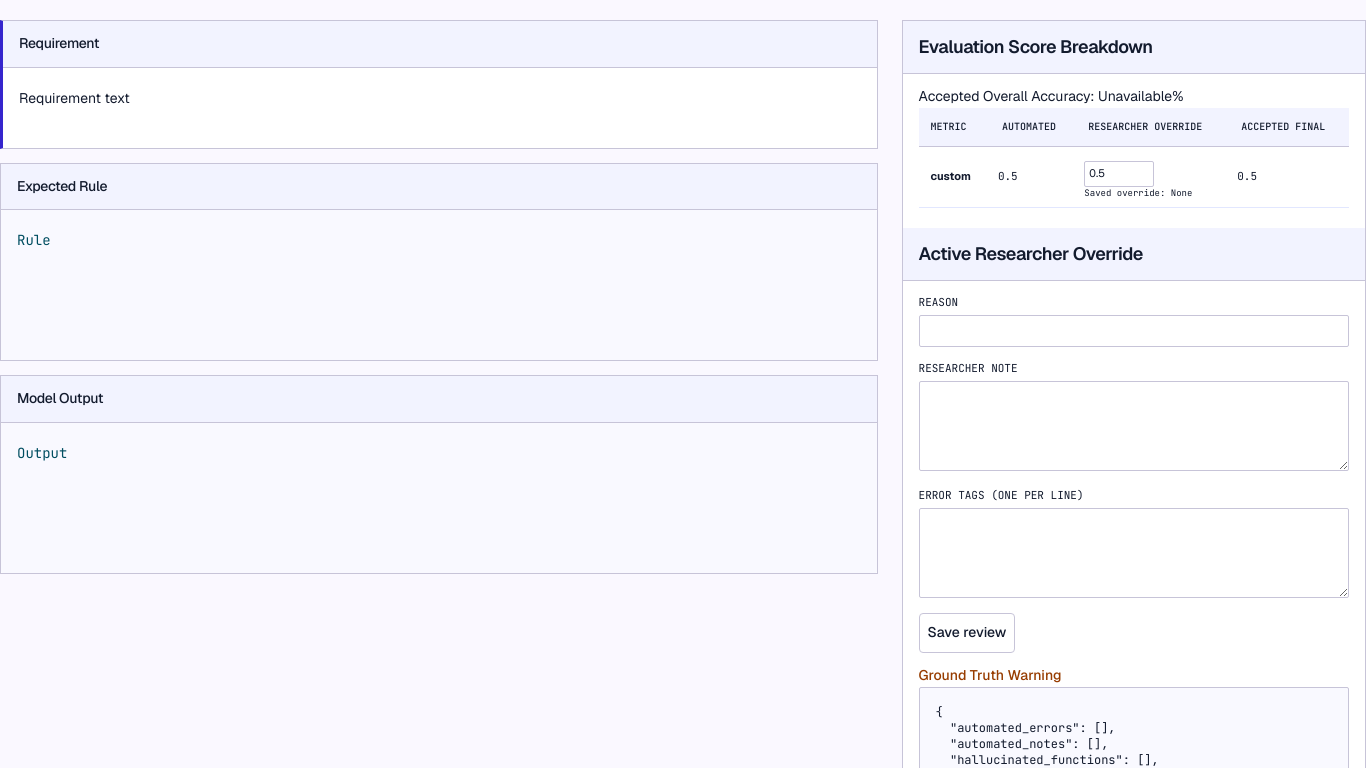
Test: review renders, requires reason, saves and shows audit
The image size is (1366, 768).
Replace the text in the number field named "Override custom" with "1" at (1119, 174), box [1084,161,1154,187]
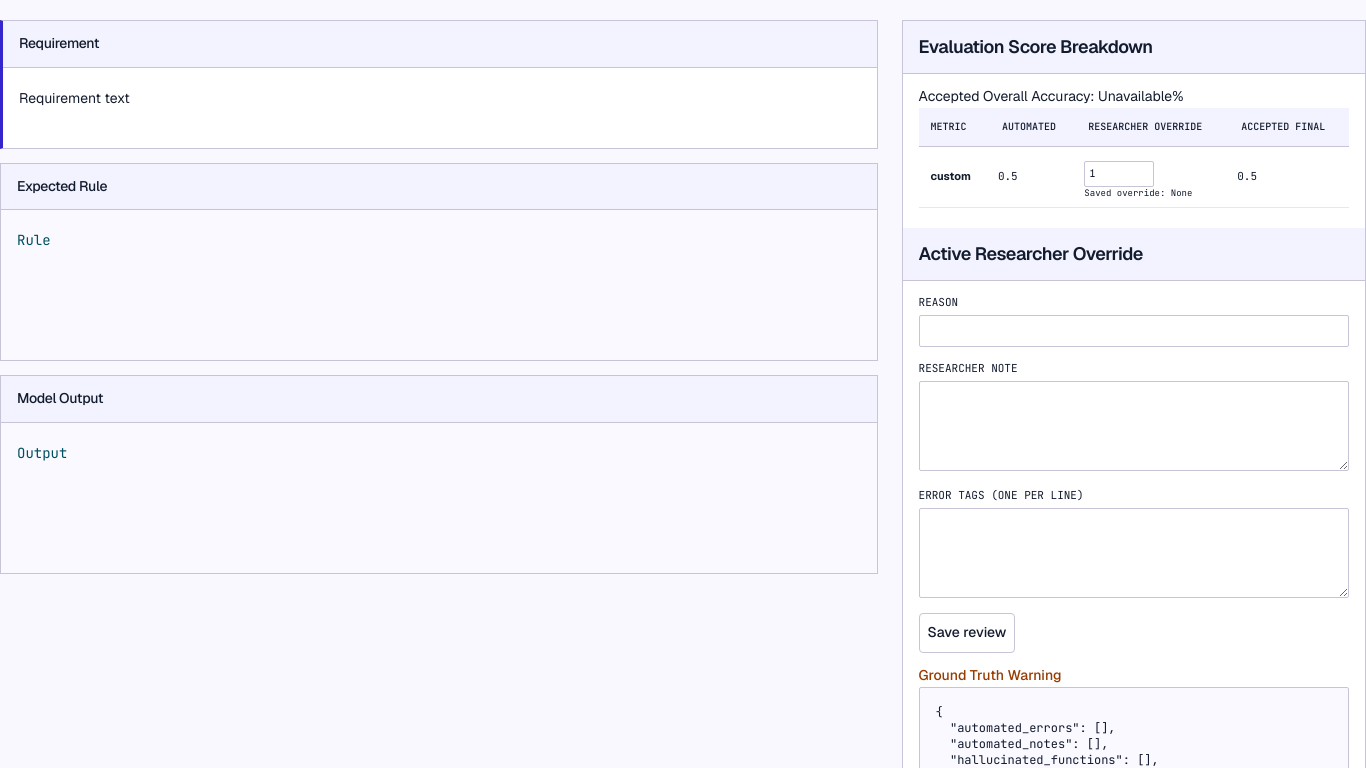
Click the button "Save review" at (967, 633), box [919,613,1015,653]
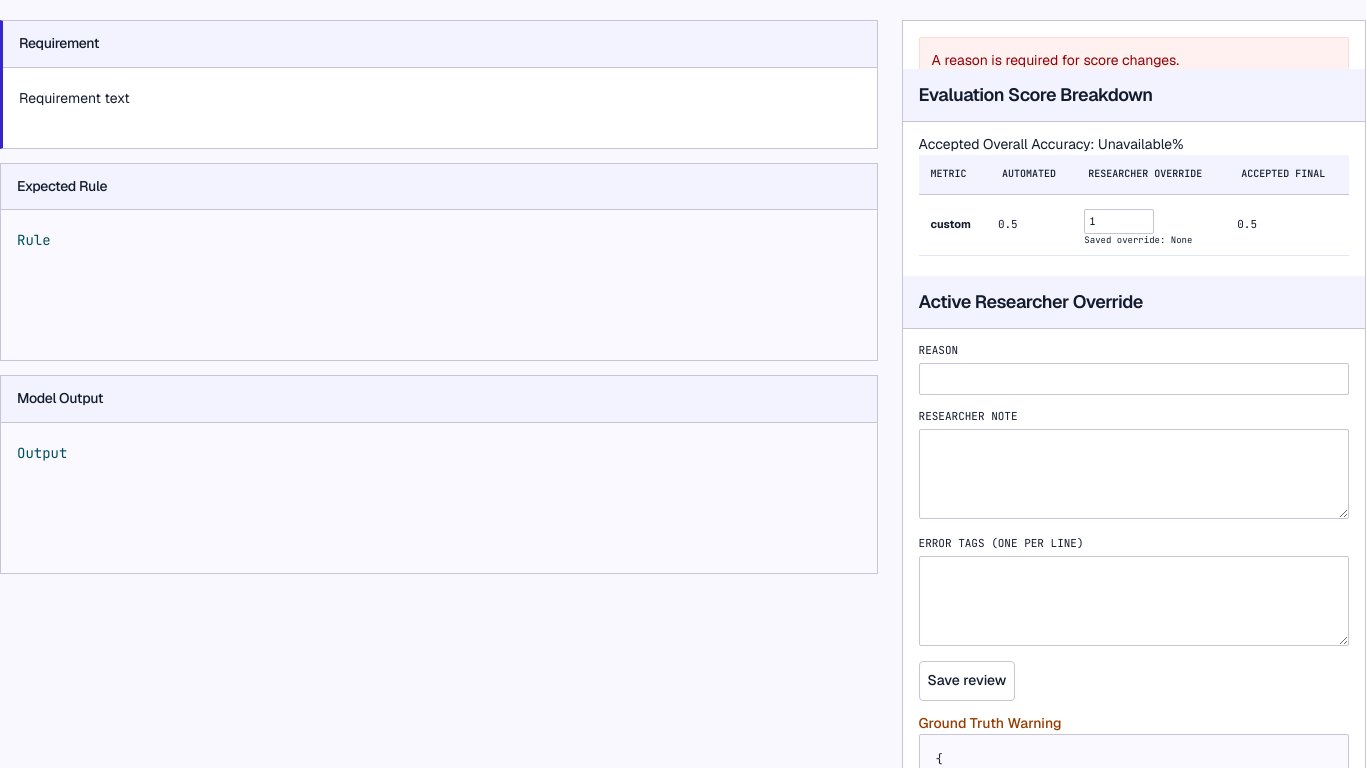
Expected: the message shows "reason", [932,51,1179,69]
Type "Confirmed" into the field named "Review reason" at (1134, 379), box [919,363,1349,395]
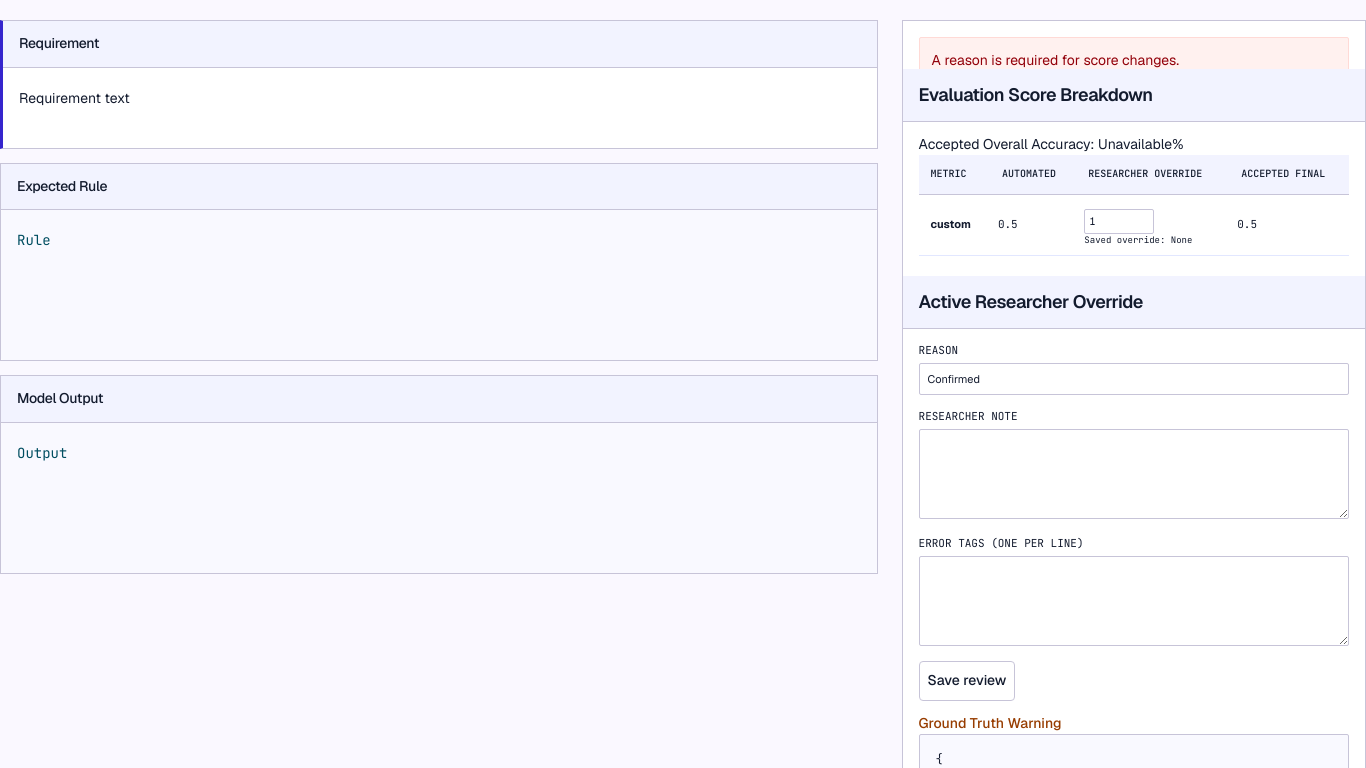
Click the button "Save review" at (967, 681), box [919,661,1015,701]
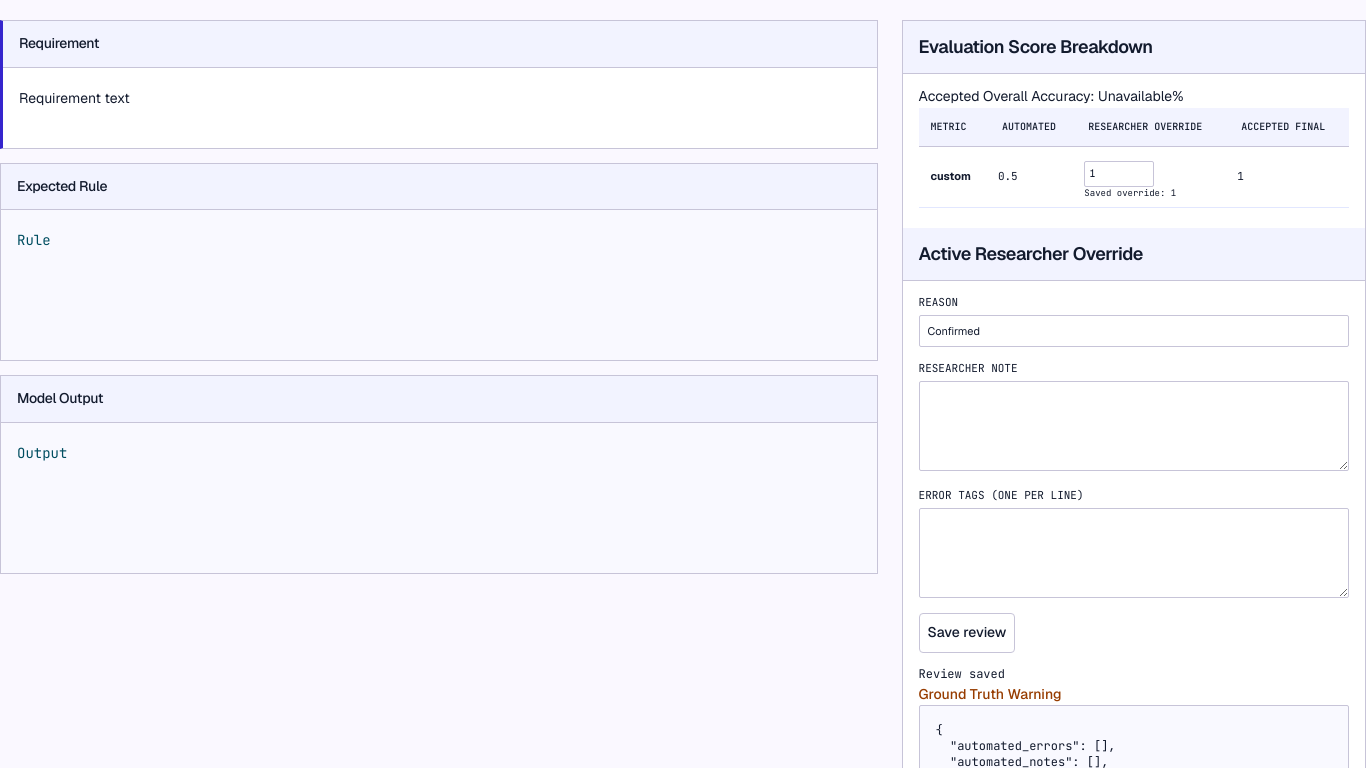
Expected: the text "Ground Truth Warning" is shown, [919,685,1062,703]
Expected: the text "Review saved" is shown, [919,666,1005,682]
